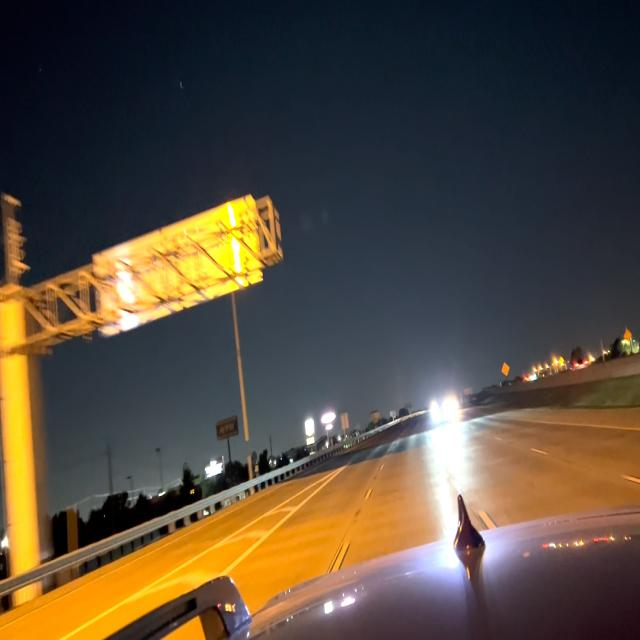back-of-sign: (92, 197, 264, 339)
